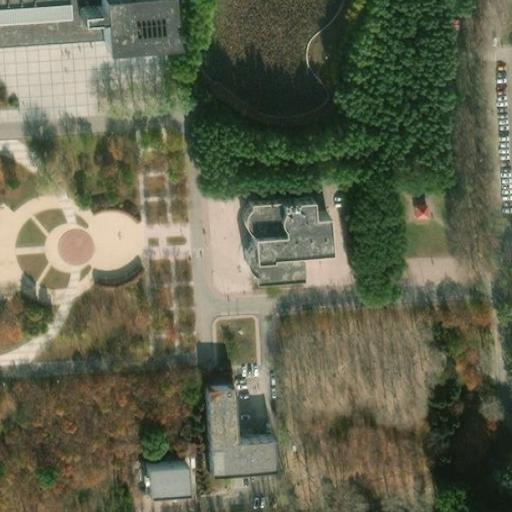building: (196, 378, 266, 464), (240, 191, 315, 256), (91, 0, 163, 28), (234, 192, 271, 229), (242, 247, 292, 272), (139, 454, 177, 481), (410, 193, 432, 217)
